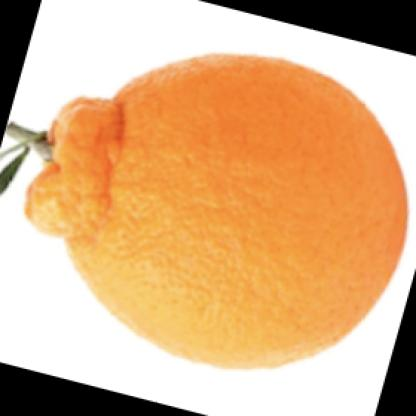fresh: (32, 51, 411, 372)
